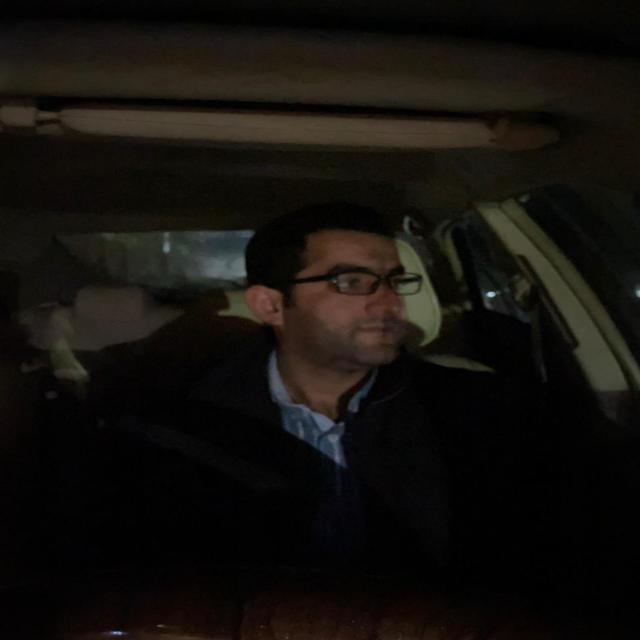person: (251, 218, 419, 371)
